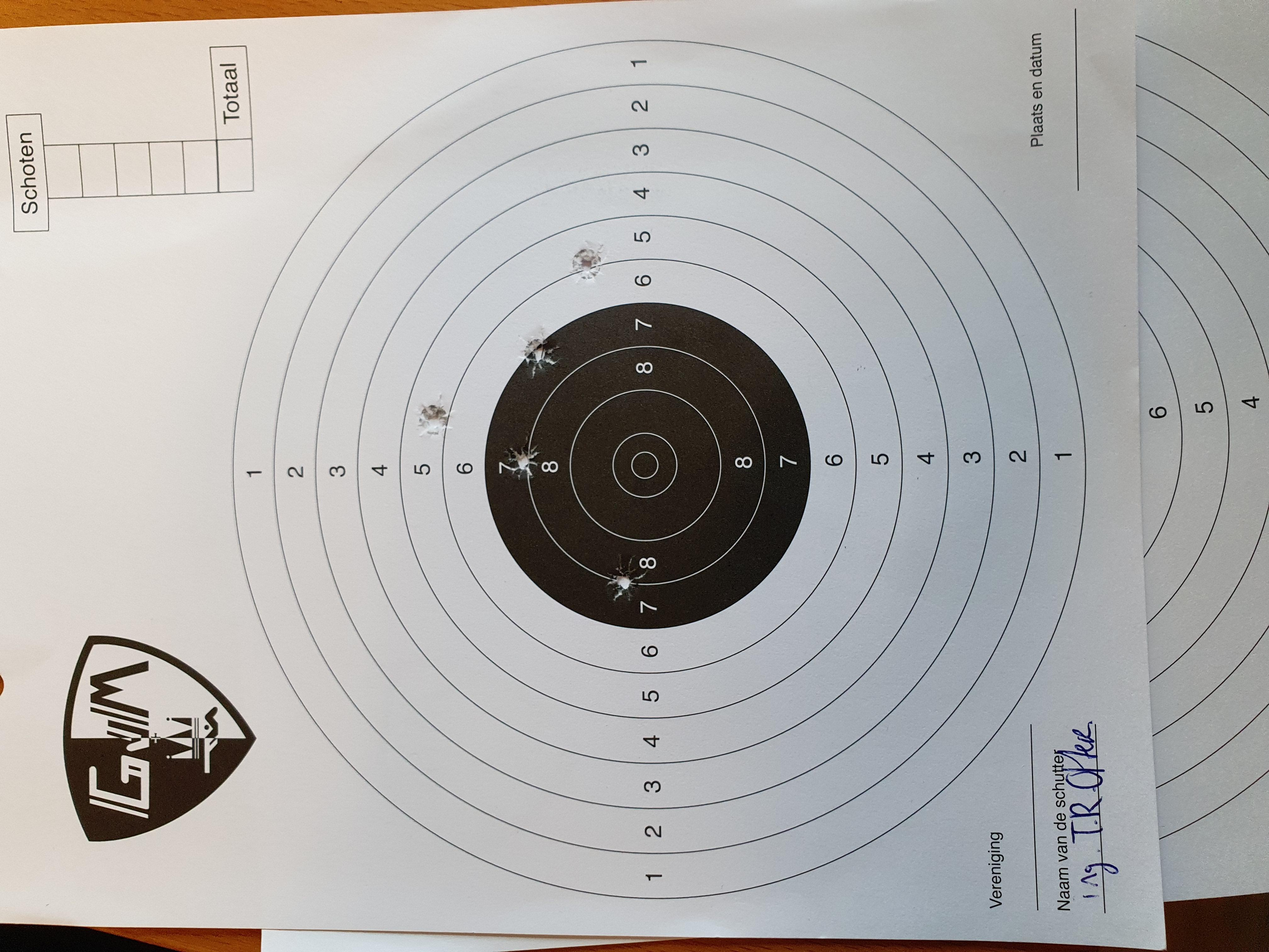hole: (679, 308, 742, 341), (461, 454, 522, 484), (621, 378, 682, 405), (774, 389, 829, 418), (896, 424, 943, 452)
